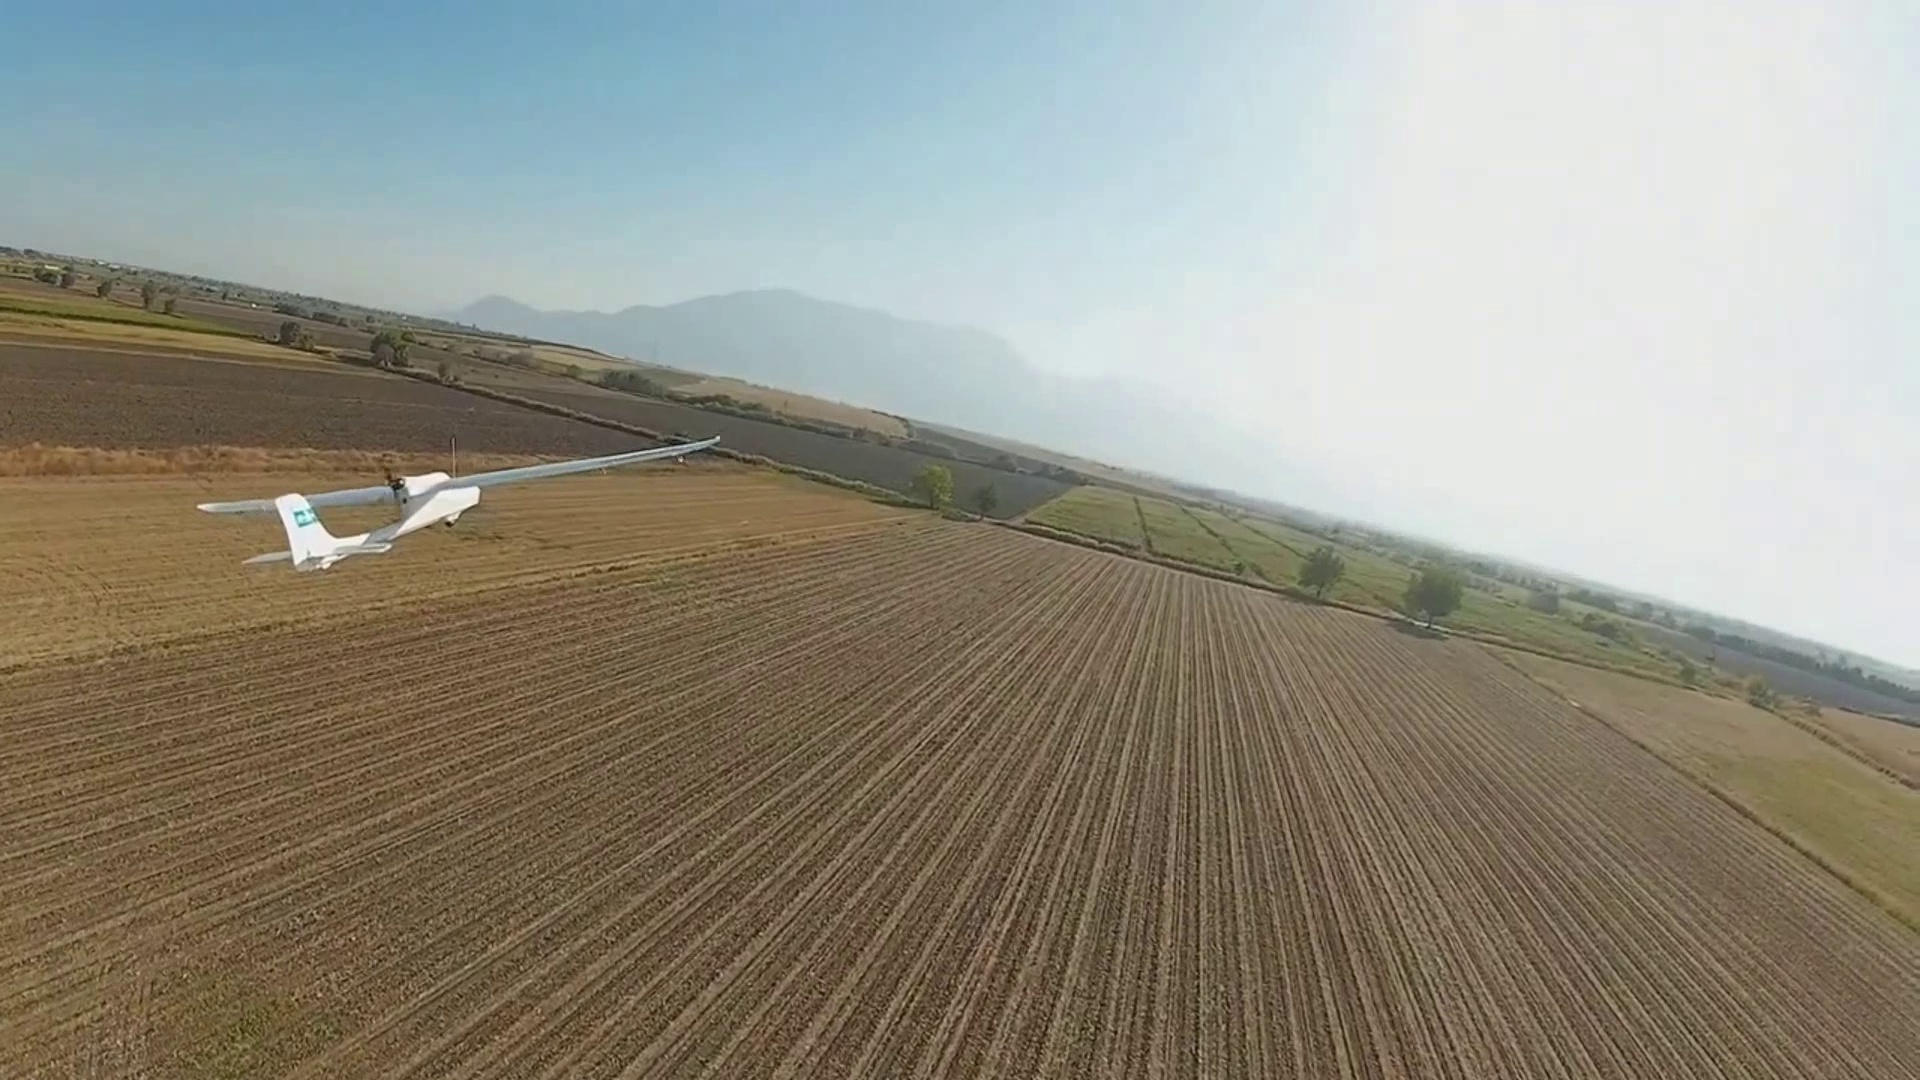airplane: (196, 426, 723, 572)
